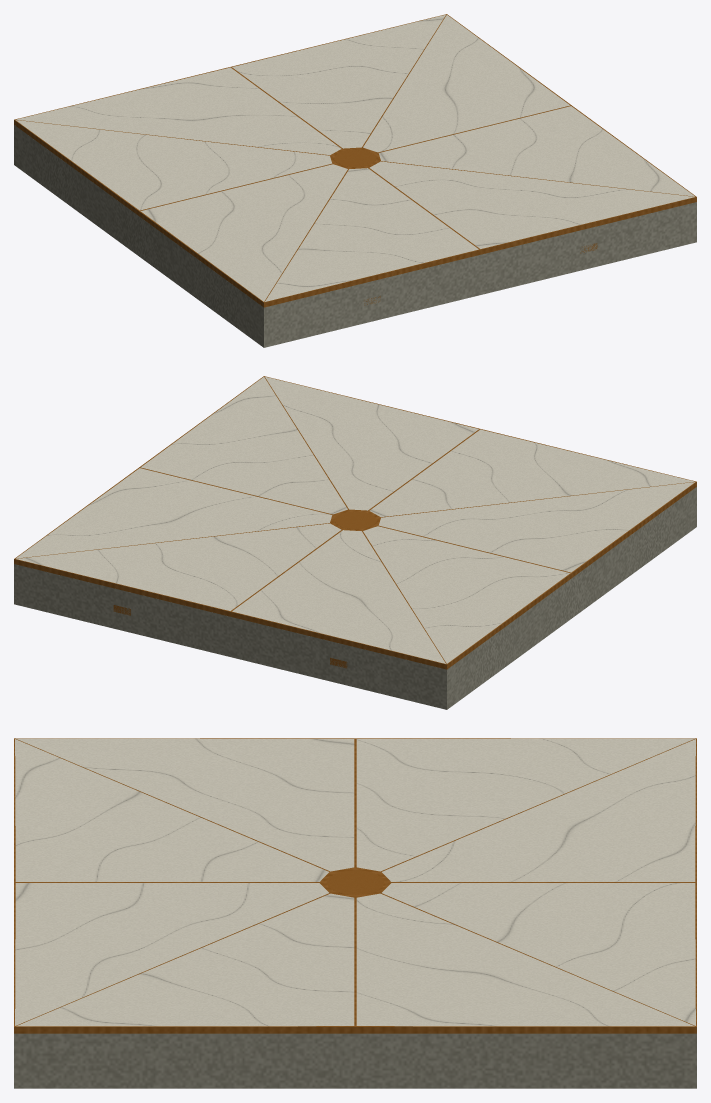
3 views of the same model, one above another, from view 1: azimuth 30°, elevation 25°; view 2: azimuth 150°, elevation 25°; view 3: azimuth 270°, elevation 25° (orthographic). The views are drawn at different scales.
Parts seen in each view (by area): view 1: Stone floor substrate, Replaceable flush radial marble floor sector.001, Replaceable flush radial marble floor sector.005, Replaceable flush radial marble floor sector.006, Replaceable flush radial marble floor sector.002, Replaceable flush radial marble floor sector.004, Replaceable flush radial marble floor sector, Replaceable flush radial marble floor sector.007, Replaceable flush radial marble floor sector.003, Recessed continuous bronze inlay bed, Flush solar medallion; view 2: Stone floor substrate, Replaceable flush radial marble floor sector, Replaceable flush radial marble floor sector.004, Replaceable flush radial marble floor sector.007, Replaceable flush radial marble floor sector.003, Replaceable flush radial marble floor sector.001, Replaceable flush radial marble floor sector.005, Replaceable flush radial marble floor sector.006, Replaceable flush radial marble floor sector.002, Recessed continuous bronze inlay bed, Flush solar medallion; view 3: Stone floor substrate, Replaceable flush radial marble floor sector.002, Replaceable flush radial marble floor sector.003, Replaceable flush radial marble floor sector.006, Replaceable flush radial marble floor sector.007, Replaceable flush radial marble floor sector.001, Replaceable flush radial marble floor sector.004, Replaceable flush radial marble floor sector, Replaceable flush radial marble floor sector.005, Recessed continuous bronze inlay bed, Flush solar medallion.
Part boxes in pixels (x1=…): Stone floor substrate: x1=14, y1=125, x2=696, y2=347; Replaceable flush radial marble floor sector.001: x1=369, y1=161, x2=694, y2=248; Replaceable flush radial marble floor sector.005: x1=16, y1=67, x2=341, y2=154; Replaceable flush radial marble floor sector.006: x1=16, y1=120, x2=332, y2=210; Replaceable flush radial marble floor sector.002: x1=378, y1=106, x2=694, y2=196; Replaceable flush radial marble floor sector.004: x1=232, y1=14, x2=445, y2=148; Replaceable flush radial marble floor sector: x1=265, y1=168, x2=478, y2=301; Replaceable flush radial marble floor sector.007: x1=140, y1=164, x2=347, y2=301; Replaceable flush radial marble floor sector.003: x1=363, y1=15, x2=569, y2=152; Recessed continuous bronze inlay bed: x1=14, y1=14, x2=696, y2=307; Flush solar medallion: x1=334, y1=149, x2=376, y2=167; Stone floor substrate: x1=14, y1=487, x2=696, y2=709; Replaceable flush radial marble floor sector: x1=369, y1=429, x2=694, y2=516; Replaceable flush radial marble floor sector.004: x1=16, y1=523, x2=341, y2=610; Replaceable flush radial marble floor sector.007: x1=378, y1=482, x2=694, y2=572; Replaceable flush radial marble floor sector.003: x1=16, y1=468, x2=332, y2=558; Replaceable flush radial marble floor sector.001: x1=265, y1=376, x2=478, y2=510; Replaceable flush radial marble floor sector.005: x1=232, y1=530, x2=445, y2=663; Replaceable flush radial marble floor sector.006: x1=363, y1=526, x2=570, y2=663; Replaceable flush radial marble floor sector.002: x1=141, y1=377, x2=347, y2=514; Recessed continuous bronze inlay bed: x1=14, y1=376, x2=696, y2=669; Flush solar medallion: x1=334, y1=511, x2=376, y2=529; Stone floor substrate: x1=14, y1=1033, x2=696, y2=1088; Replaceable flush radial marble floor sector.002: x1=16, y1=893, x2=354, y2=1026; Replaceable flush radial marble floor sector.003: x1=356, y1=893, x2=694, y2=1026; Replaceable flush radial marble floor sector.006: x1=356, y1=738, x2=694, y2=871; Replaceable flush radial marble floor sector.007: x1=16, y1=738, x2=354, y2=871; Replaceable flush radial marble floor sector.001: x1=15, y1=883, x2=328, y2=1025; Replaceable flush radial marble floor sector.004: x1=382, y1=883, x2=695, y2=1025; Replaceable flush radial marble floor sector: x1=15, y1=739, x2=328, y2=881; Replaceable flush radial marble floor sector.005: x1=382, y1=739, x2=695, y2=881; Recessed continuous bronze inlay bed: x1=14, y1=738, x2=696, y2=1033; Flush solar medallion: x1=326, y1=870, x2=384, y2=894.
Size of the model in its own units: 4 by 0.4 by 4.
Materials: 3 (3 with a texture image).
